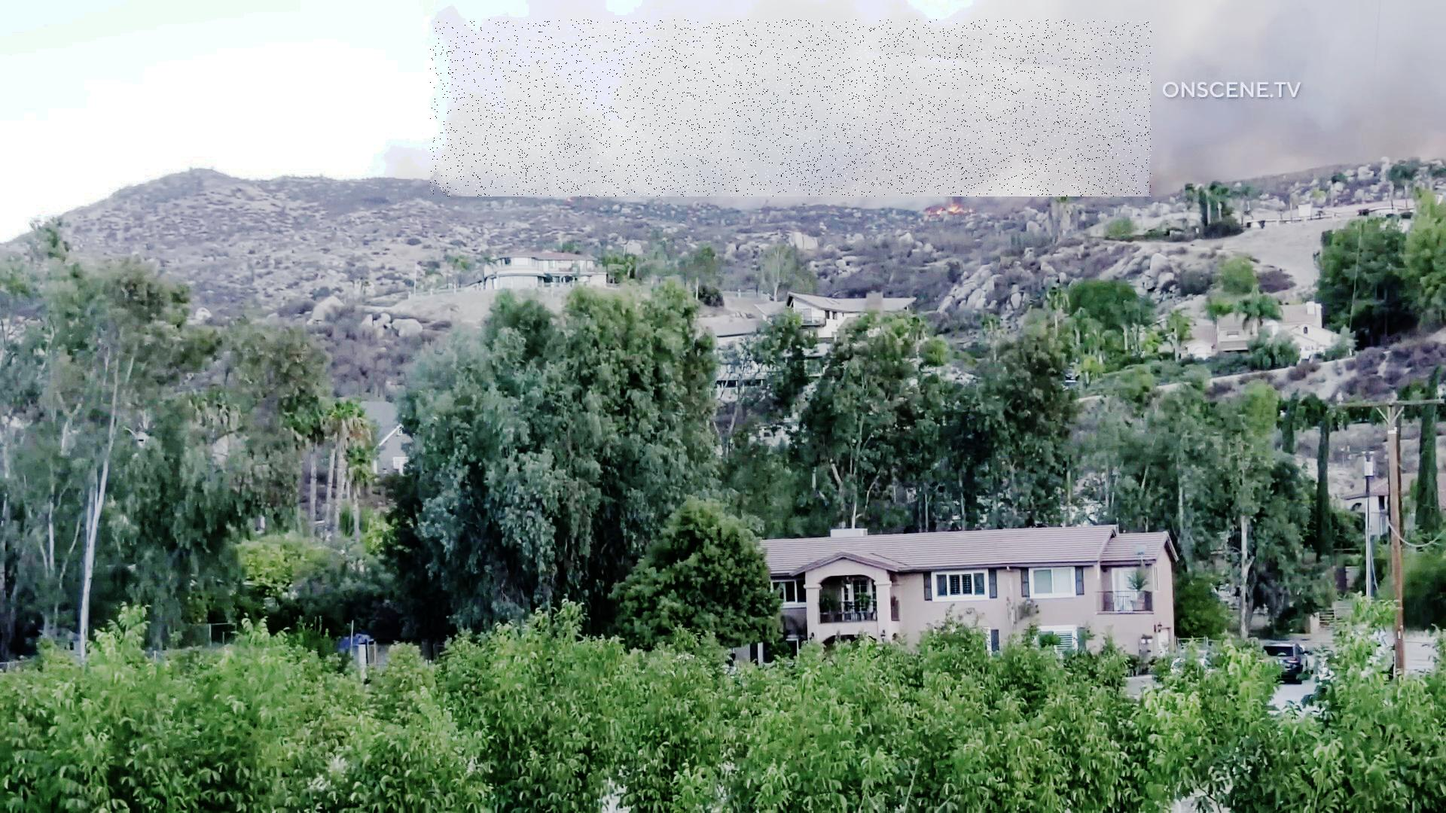smoke: (431, 20, 1153, 197)
